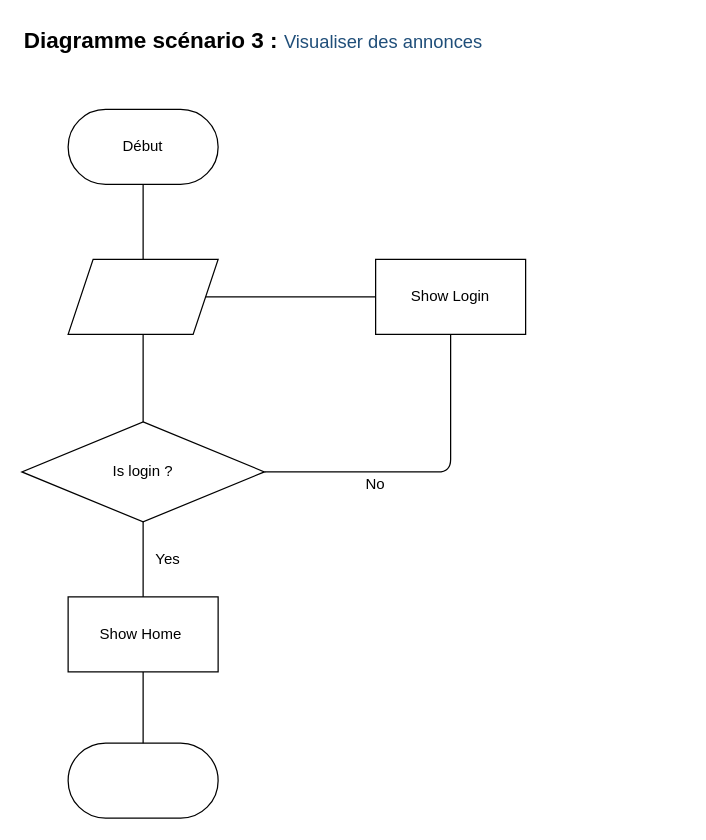
The diagram is 706 pixels wide and 840 high, and some of its shapes have lost their labels. The box of each missing label's shape, as (x1, y1, x2, y2) in pixels:
Fin: (67, 742, 218, 818)
Open web page: (67, 258, 218, 334)
